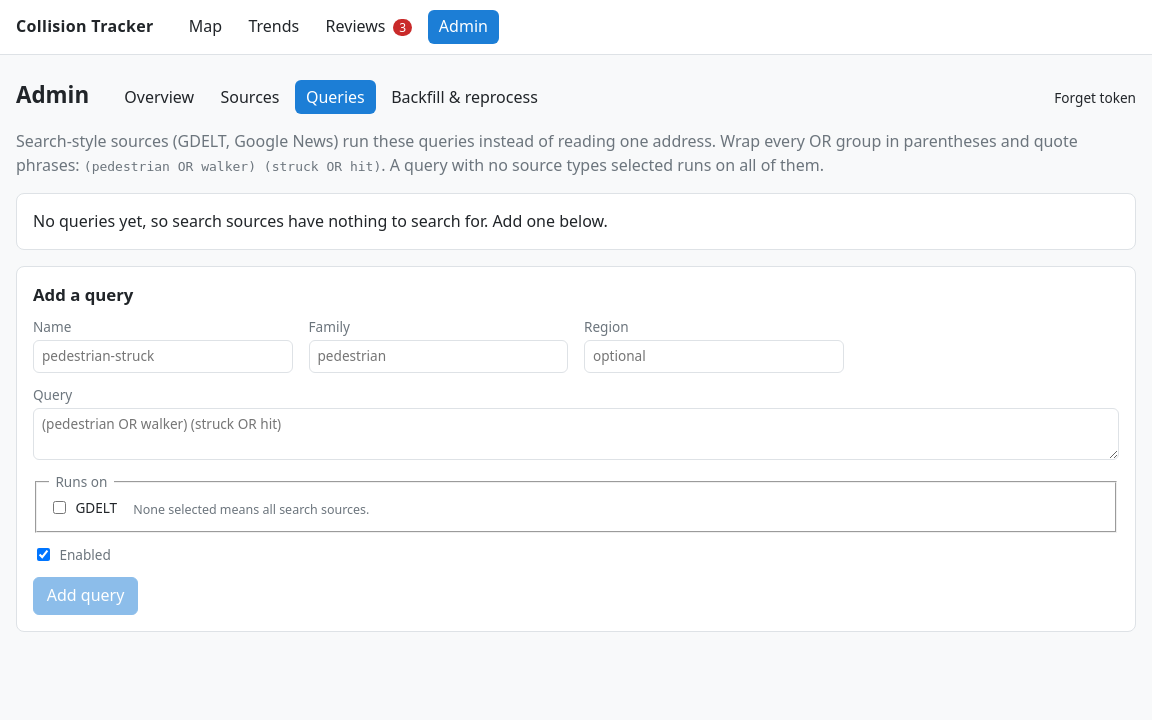
Test: Queries › shows the server's reason when a query is rejected
In the field labelled "Name": (163, 356) [33,340,292,373], type "bad-or"
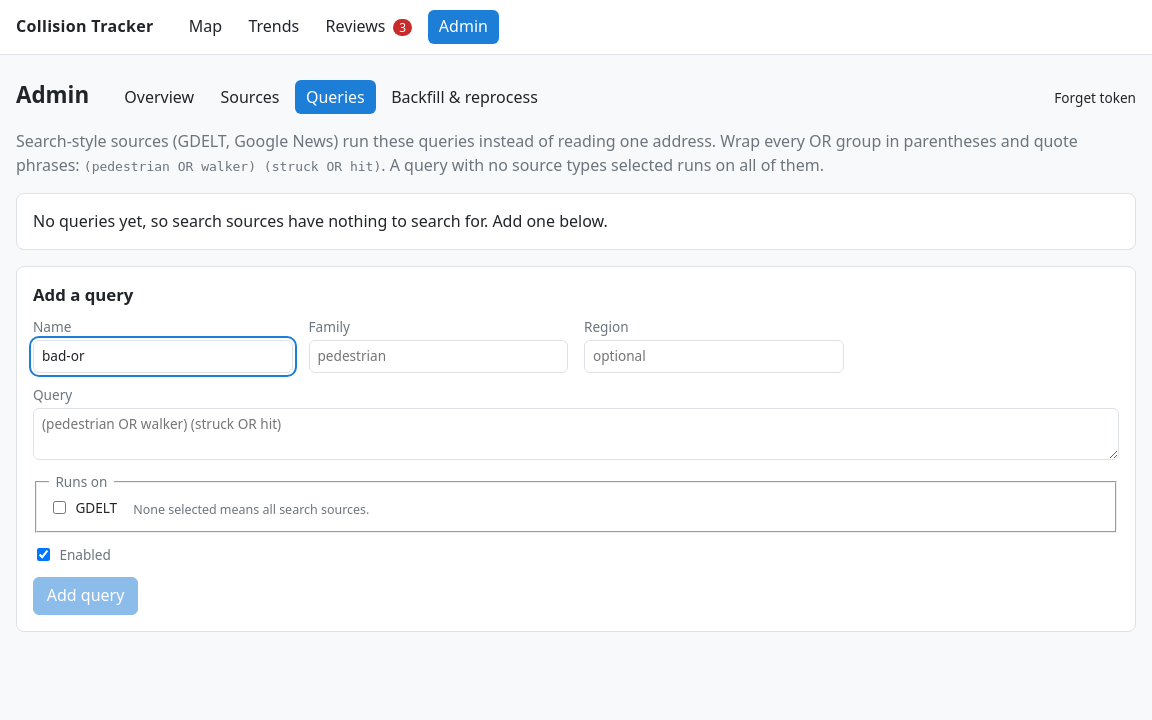
In the field labelled "Family": (438, 356) [308,340,568,373], type "p"
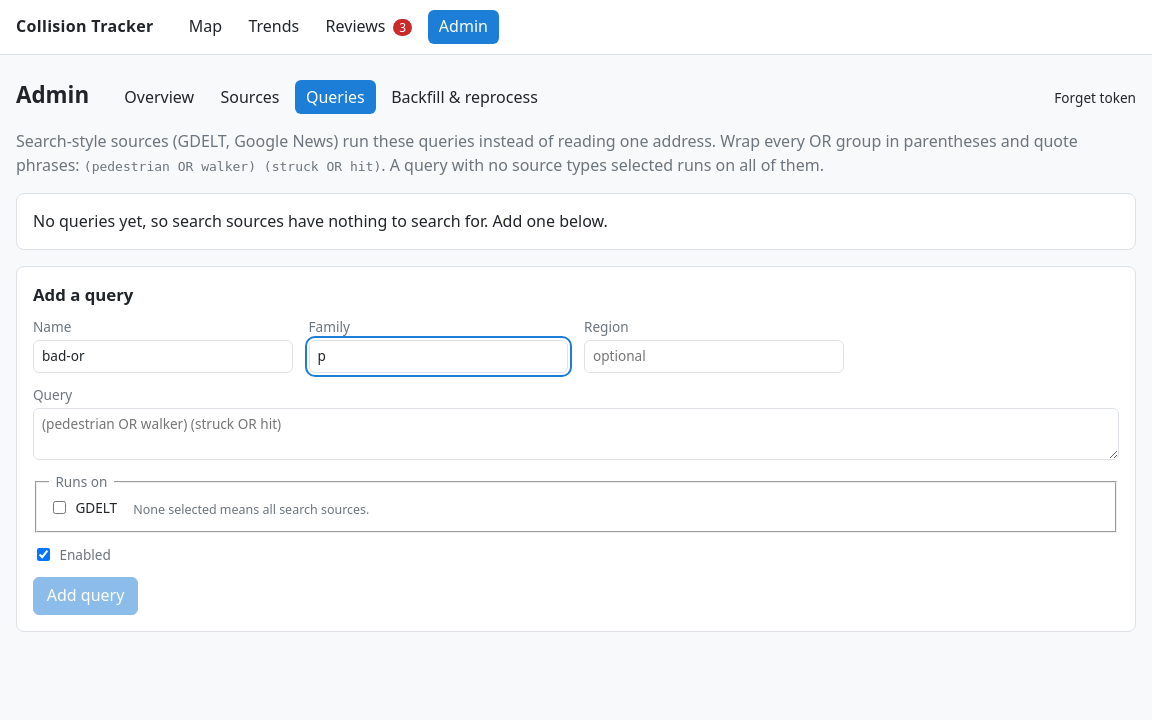
In the text box labelled "Query": (576, 434) [33,408,1119,460], type "a OR b"
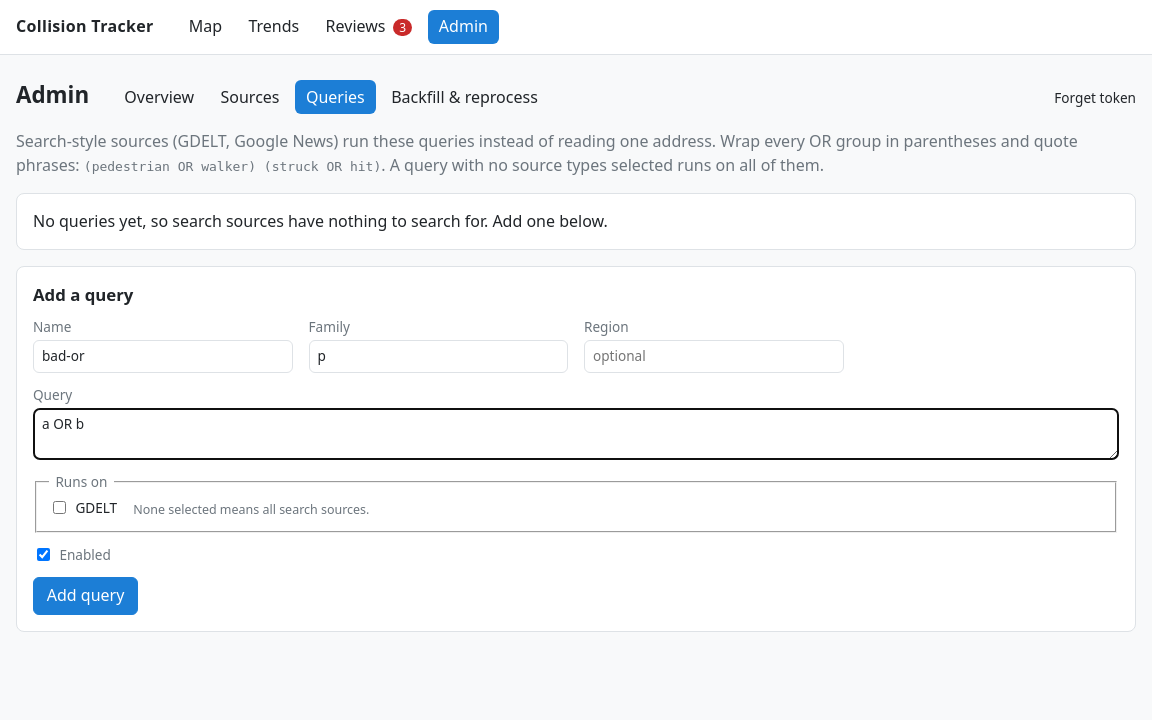
Click the button "Add query": (86, 596) [33,577,138,615]
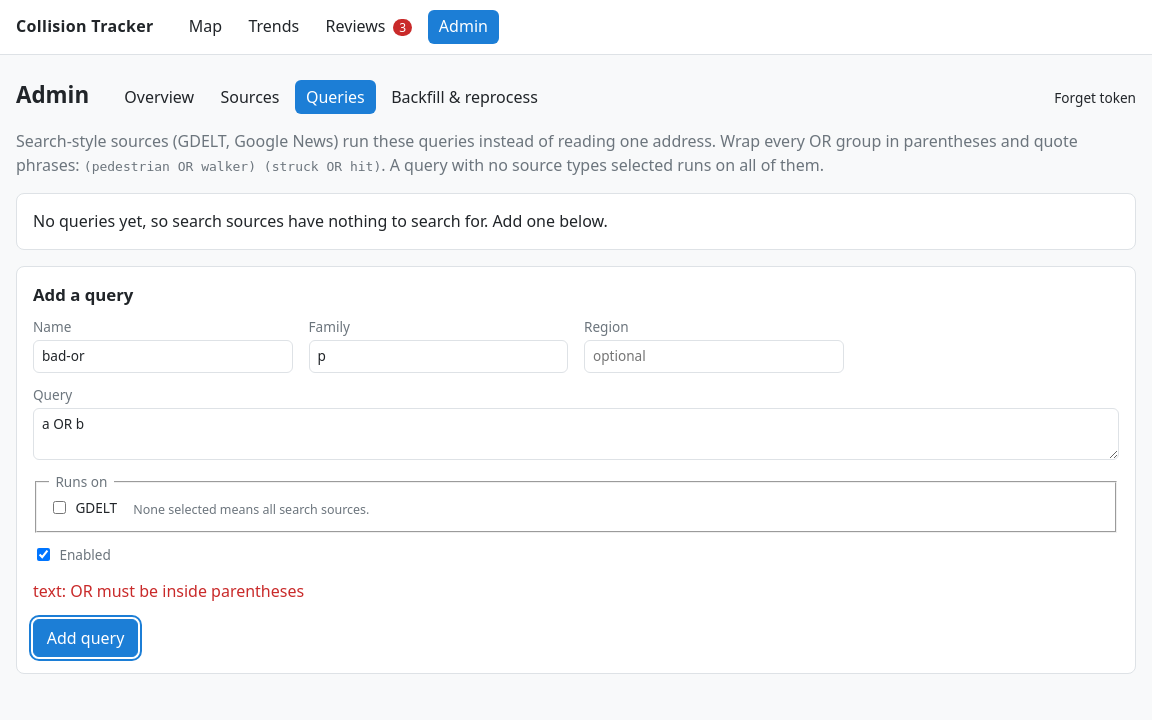
Check: the text "text: OR must be inside parentheses" is shown, box [33,580,304,602]
